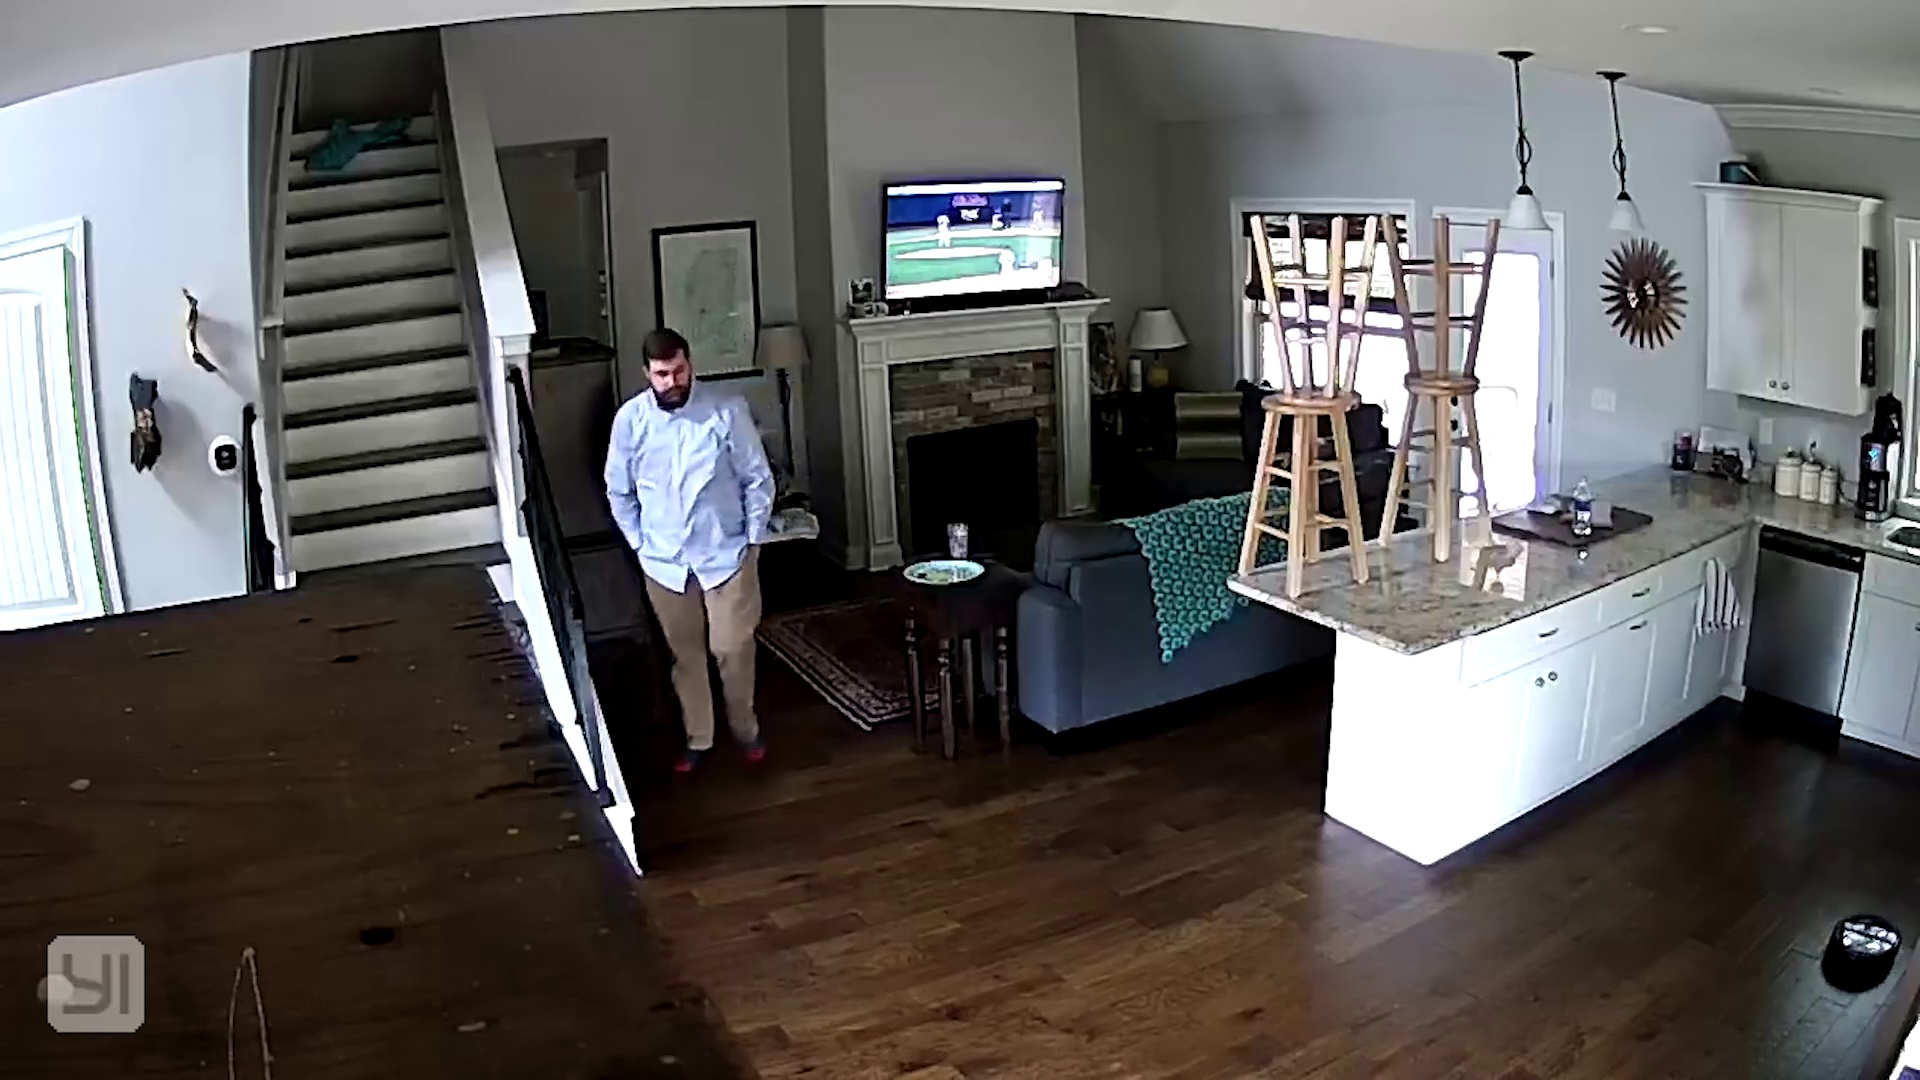face: (649, 354, 690, 402)
